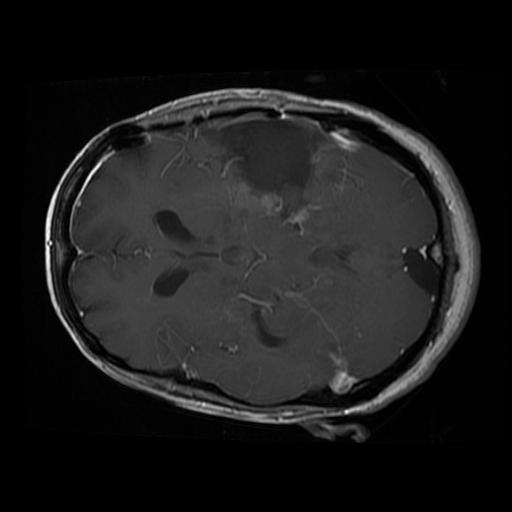glioma: (202, 122, 313, 204)
